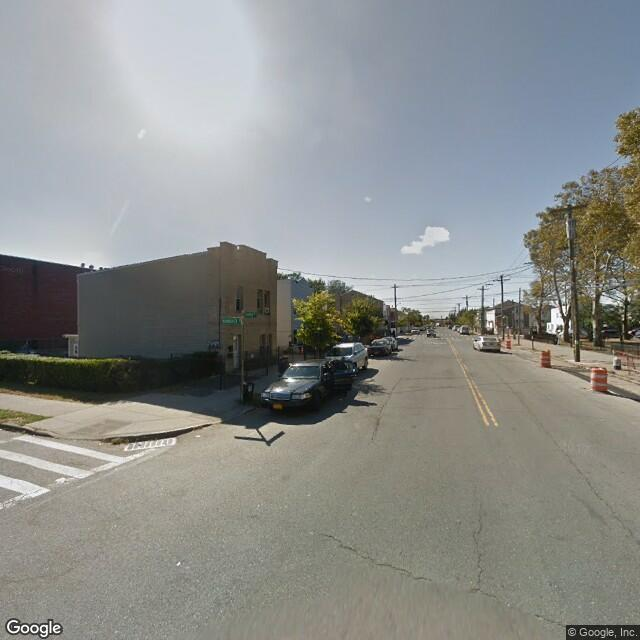litter: (55, 476, 69, 485), (174, 560, 184, 569), (194, 433, 203, 440)
